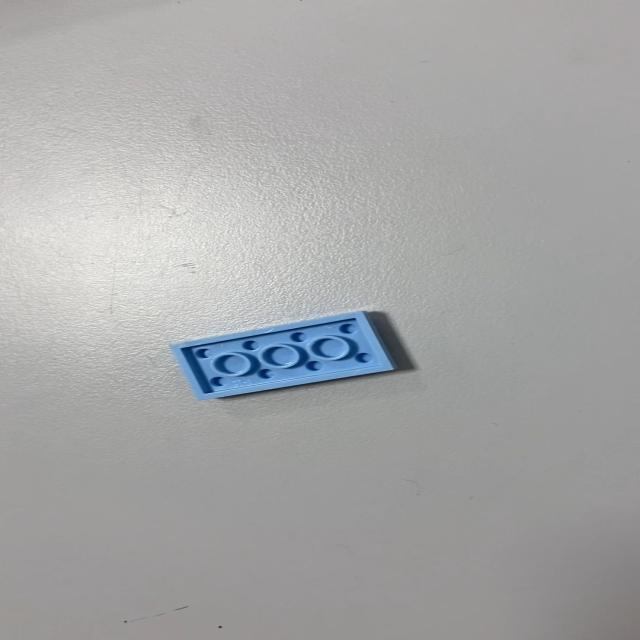C4x2x0: (170, 310, 398, 400)
